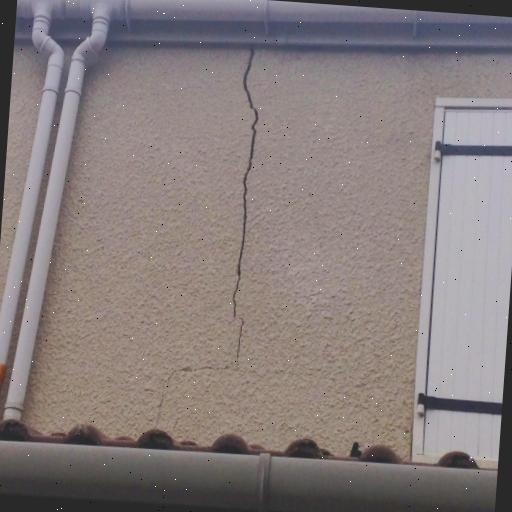spalling: (225, 53, 264, 364)
